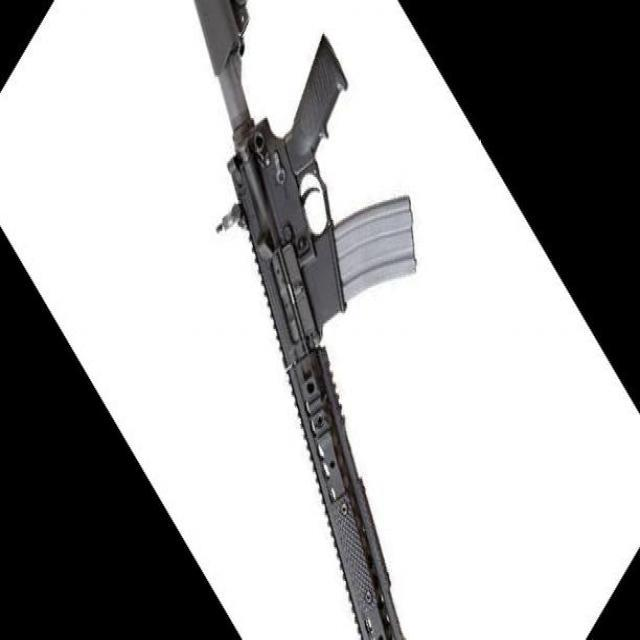weapon: (194, 0, 418, 640)
